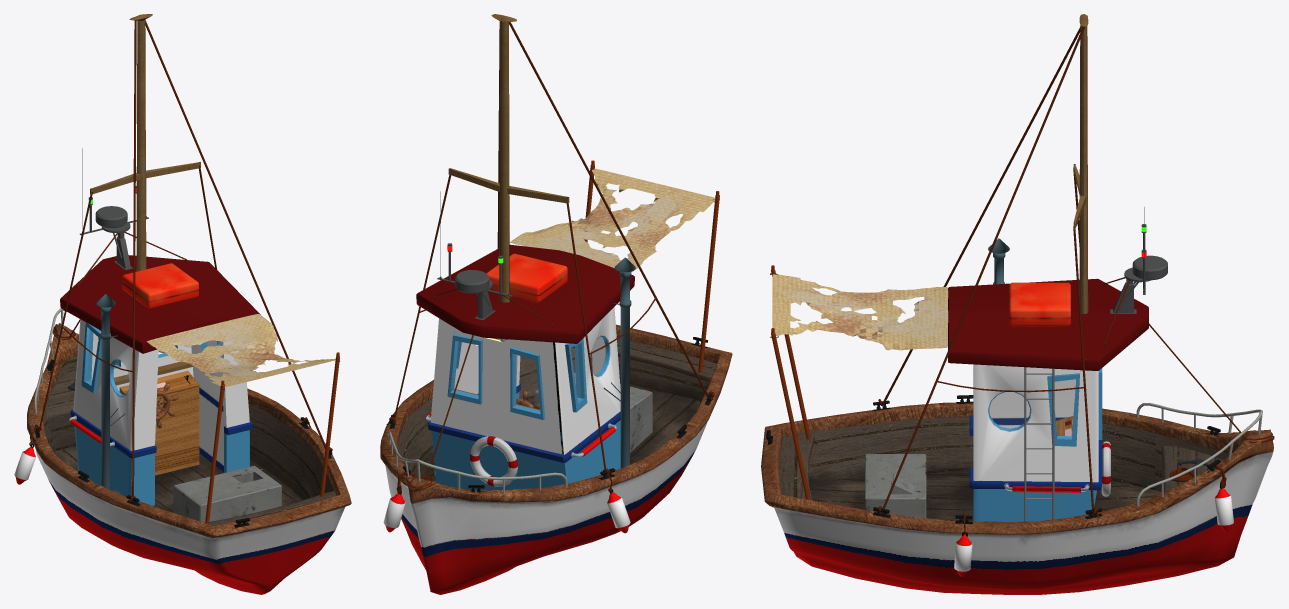
Rendered from boat.gltf.
The picture shows the model from 3 angles, left to right: view 1: azimuth 30°, elevation 25°; view 2: azimuth 150°, elevation 25°; view 3: azimuth 270°, elevation 25°; orthographic projection. The views are drawn at different scales.
Visible parts, largest first — view 1: Material-CABINA, Material-BARCA-ESTERNO, Material-BARCA_INTERNO, Material-TENDA, Material-MOTORE, Material-CORDE-scure, Material-ALBERO-MAIN, Material-SALVAGENTE-TETTO, Material-PIPE, Material-ANTENNA, Material-TENDA-BASTONI, Material-BITTE (+3 smaller); view 2: Material-CABINA, Material-BARCA-ESTERNO, Material-BARCA_INTERNO, Material-TENDA, Material-CORDE-scure, Material-ALBERO-MAIN, Material-SALVAGENTE-TETTO, Material-PIPE, Material-ANTENNA, Material-MOTORE, Material-TENDA-BASTONI, Material-PARABORDI (+3 smaller); view 3: Material-BARCA-ESTERNO, Material-CABINA, Material-BARCA_INTERNO, Material-TENDA, Material-CORDE-scure, Material-MOTORE, Material-SALVAGENTE-TETTO, Material-ALBERO-MAIN, Material-ANTENNA, Material-TENDA-BASTONI, Material-RINGHIERA, Material-PARABORDI (+2 smaller).
Part boxes in pixels (bbox=[...]): Material-CABINA: bbox=[60, 255, 260, 506]; Material-BARCA-ESTERNO: bbox=[27, 323, 351, 594]; Material-BARCA_INTERNO: bbox=[43, 357, 336, 525]; Material-TENDA: bbox=[147, 314, 335, 386]; Material-MOTORE: bbox=[173, 465, 281, 522]; Material-CORDE-scure: bbox=[29, 20, 332, 502]; Material-ALBERO-MAIN: bbox=[90, 14, 200, 385]; Material-SALVAGENTE-TETTO: bbox=[122, 263, 198, 308]; Material-PIPE: bbox=[96, 294, 125, 494]; Material-ANTENNA: bbox=[80, 148, 148, 270]; Material-TENDA-BASTONI: bbox=[205, 352, 339, 523]; Material-BITTE: bbox=[30, 359, 332, 527]; Material-CABINA: bbox=[416, 244, 634, 490]; Material-BARCA-ESTERNO: bbox=[380, 324, 732, 594]; Material-BARCA_INTERNO: bbox=[397, 338, 716, 481]; Material-TENDA: bbox=[509, 168, 715, 272]; Material-CORDE-scure: bbox=[386, 21, 714, 493]; Material-ALBERO-MAIN: bbox=[448, 14, 569, 410]; Material-SALVAGENTE-TETTO: bbox=[486, 253, 567, 302]; Material-PIPE: bbox=[603, 257, 635, 468]; Material-ANTENNA: bbox=[437, 191, 512, 320]; Material-MOTORE: bbox=[534, 373, 652, 452]; Material-TENDA-BASTONI: bbox=[584, 160, 719, 372]; Material-PARABORDI: bbox=[383, 492, 630, 533]; Material-BARCA-ESTERNO: bbox=[761, 402, 1273, 594]; Material-CABINA: bbox=[948, 278, 1148, 521]; Material-BARCA_INTERNO: bbox=[779, 416, 1229, 520]; Material-TENDA: bbox=[772, 274, 948, 350]; Material-CORDE-scure: bbox=[878, 26, 1274, 534]; Material-MOTORE: bbox=[865, 454, 926, 518]; Material-SALVAGENTE-TETTO: bbox=[1009, 282, 1070, 326]; Material-ALBERO-MAIN: bbox=[1073, 14, 1088, 314]; Material-ANTENNA: bbox=[1110, 207, 1167, 313]; Material-TENDA-BASTONI: bbox=[771, 265, 810, 499]; Material-RINGHIERA: bbox=[1136, 402, 1262, 506]; Material-PARABORDI: bbox=[954, 488, 1233, 576].
Size of the model in its own units: 4.27 by 8.55 by 6.93.
28 materials, 9 textured.
